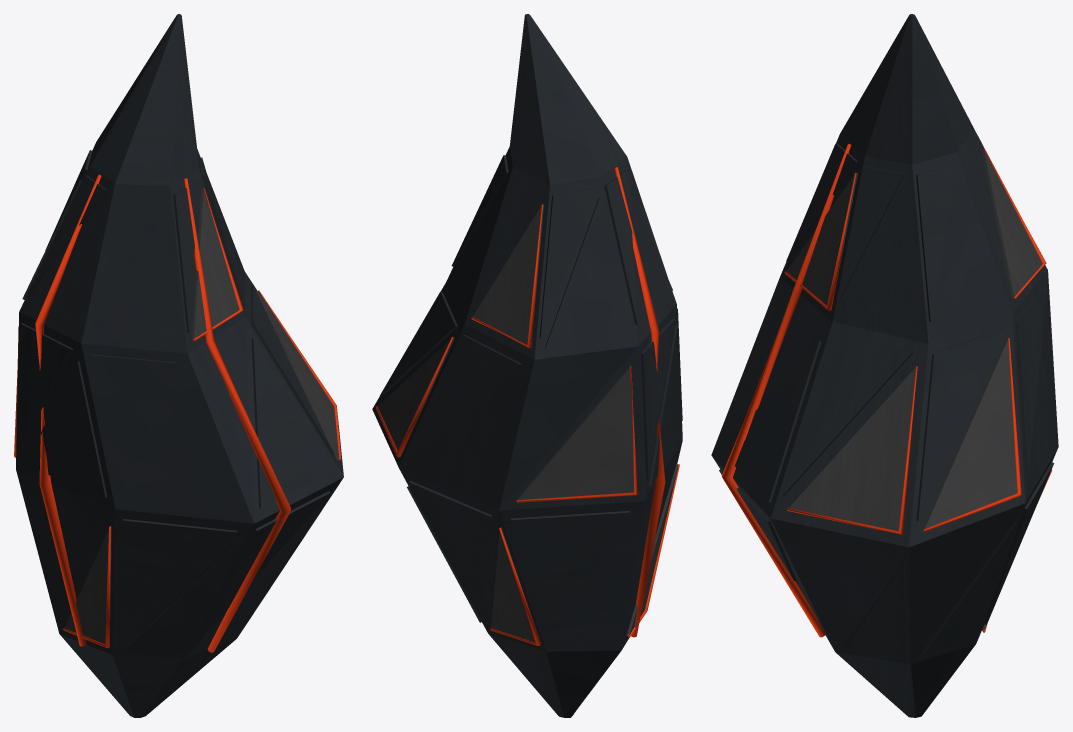
Rendered from SM_meteor_shard.fbx.
3 renders of one model, left to right at view 1: azimuth 30°, elevation 25°; view 2: azimuth 150°, elevation 25°; view 3: azimuth 270°, elevation 25°, orthographic. The views are drawn at different scales.
Visible parts, largest first — view 1: SM_meteor_shard; view 2: SM_meteor_shard; view 3: SM_meteor_shard.
Part boxes in pixels (box(x1,y1,x2,y2)): SM_meteor_shard: box(14, 14, 343, 717); SM_meteor_shard: box(372, 14, 682, 717); SM_meteor_shard: box(711, 14, 1058, 717).
Size of the model in its own units: 0.3794 by 0.3672 by 0.8401.
